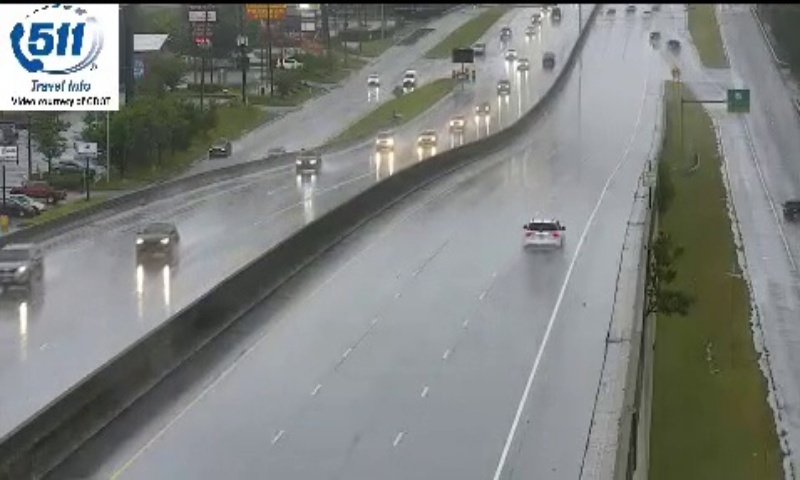car: (522, 219, 565, 251)
